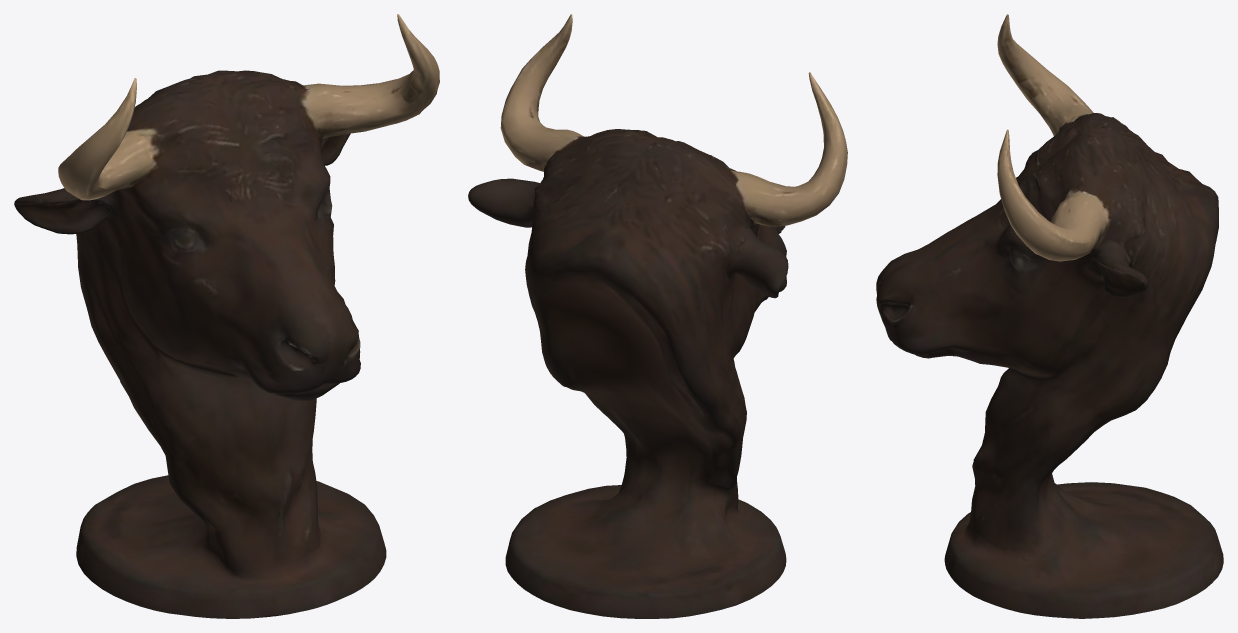
Rendered from bull.glb.
The picture shows the model from 3 angles, left to right: view 1: azimuth 30°, elevation 25°; view 2: azimuth 150°, elevation 25°; view 3: azimuth 270°, elevation 25°; orthographic projection. The views are drawn at different scales.
Parts seen in each view (by area): view 1: bull_head; view 2: bull_head; view 3: bull_head.
Part boxes in pixels (x1,y1,x2,y2): bull_head: (14, 14, 439, 618); bull_head: (468, 14, 847, 618); bull_head: (876, 14, 1223, 618).
Bounding box in the file's own units: 0.3063 × 0.433 × 0.2808.
Materials: 1 (1 with a texture image).
